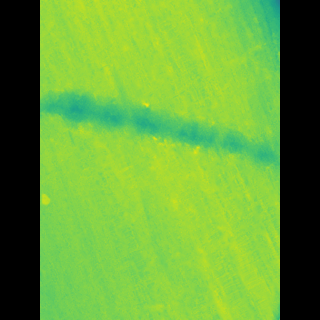Loch: (71, 80, 242, 179)
